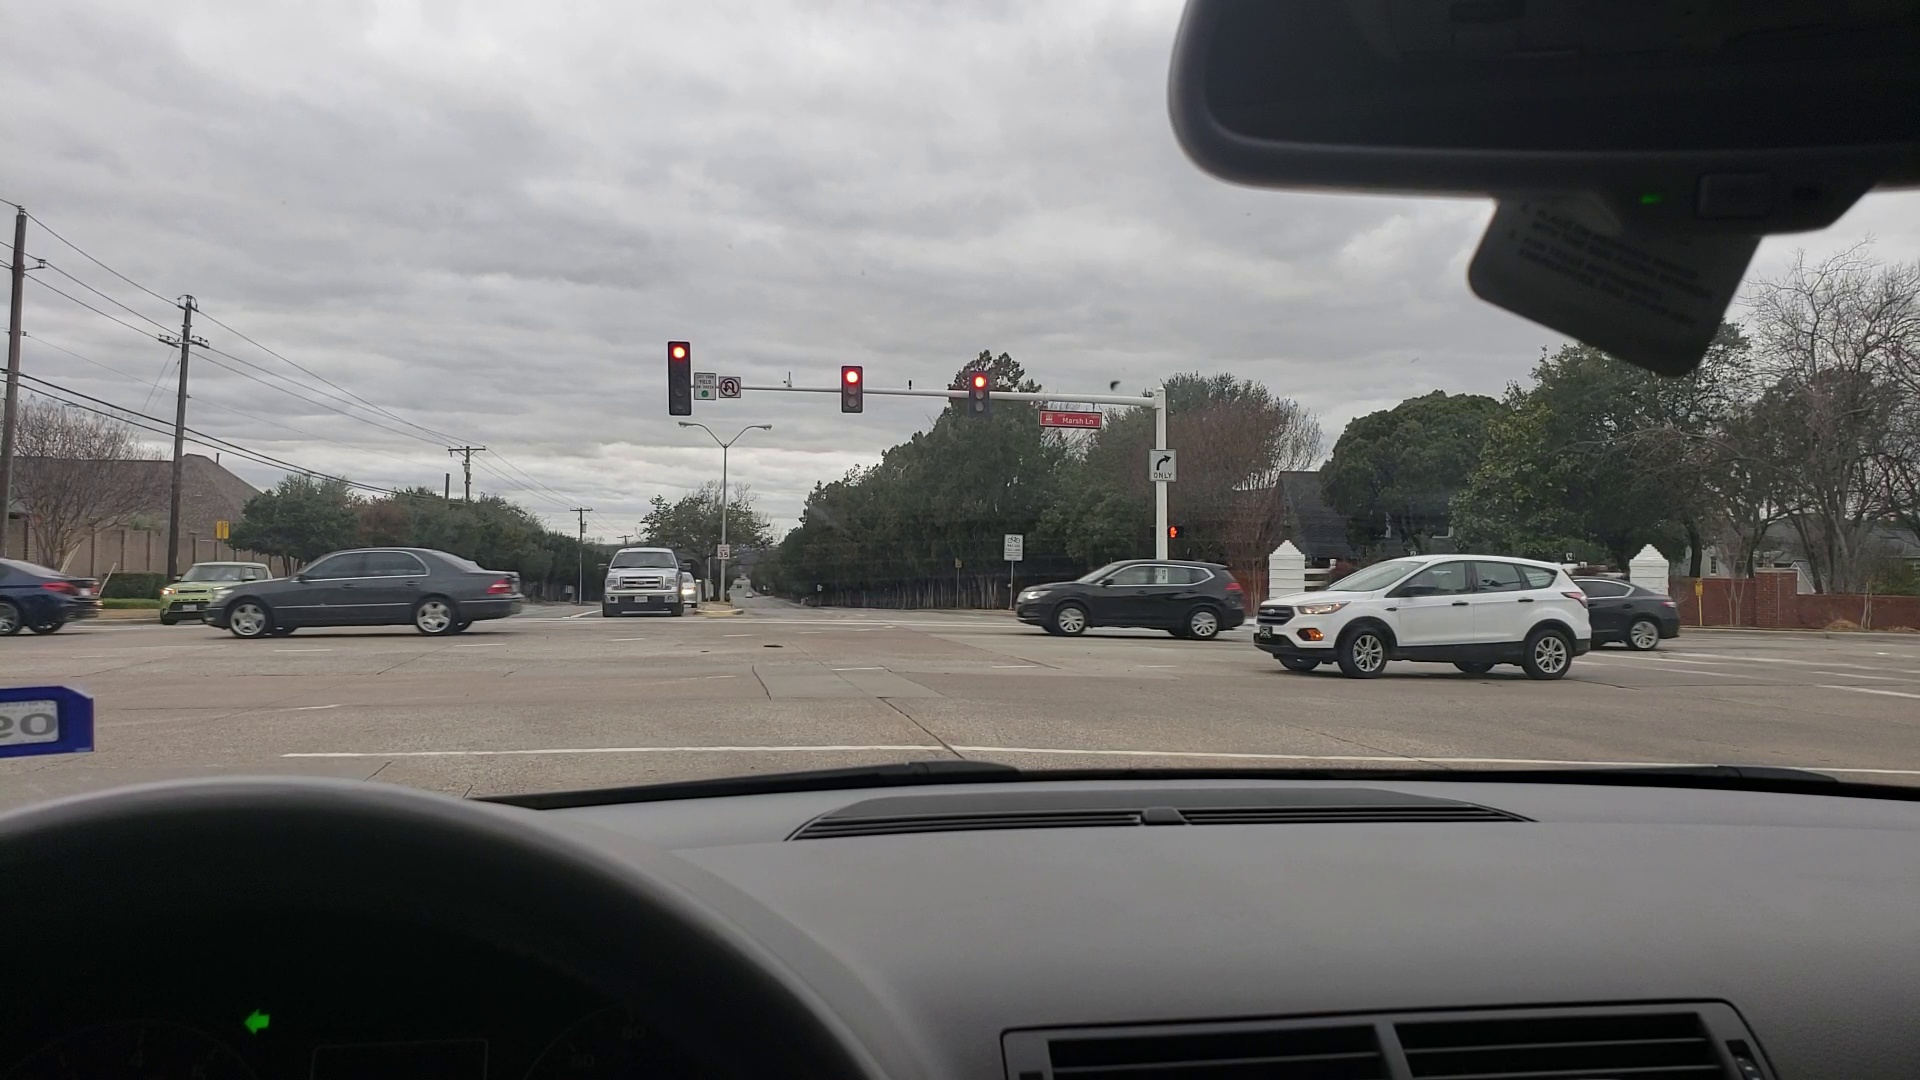car: (1263, 546, 1592, 676), (216, 553, 529, 634), (1015, 551, 1244, 647), (1565, 564, 1683, 659), (1, 549, 96, 647), (158, 556, 272, 625), (676, 560, 702, 611)
traffic light: (666, 342, 692, 407), (843, 363, 865, 409), (971, 375, 990, 417)
truck: (597, 547, 684, 620)
